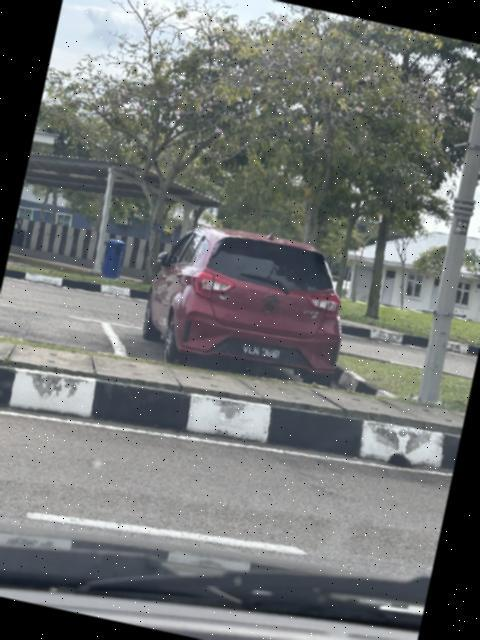License_Plate: (232, 337, 292, 365)
VLN3661: (232, 337, 292, 365)
